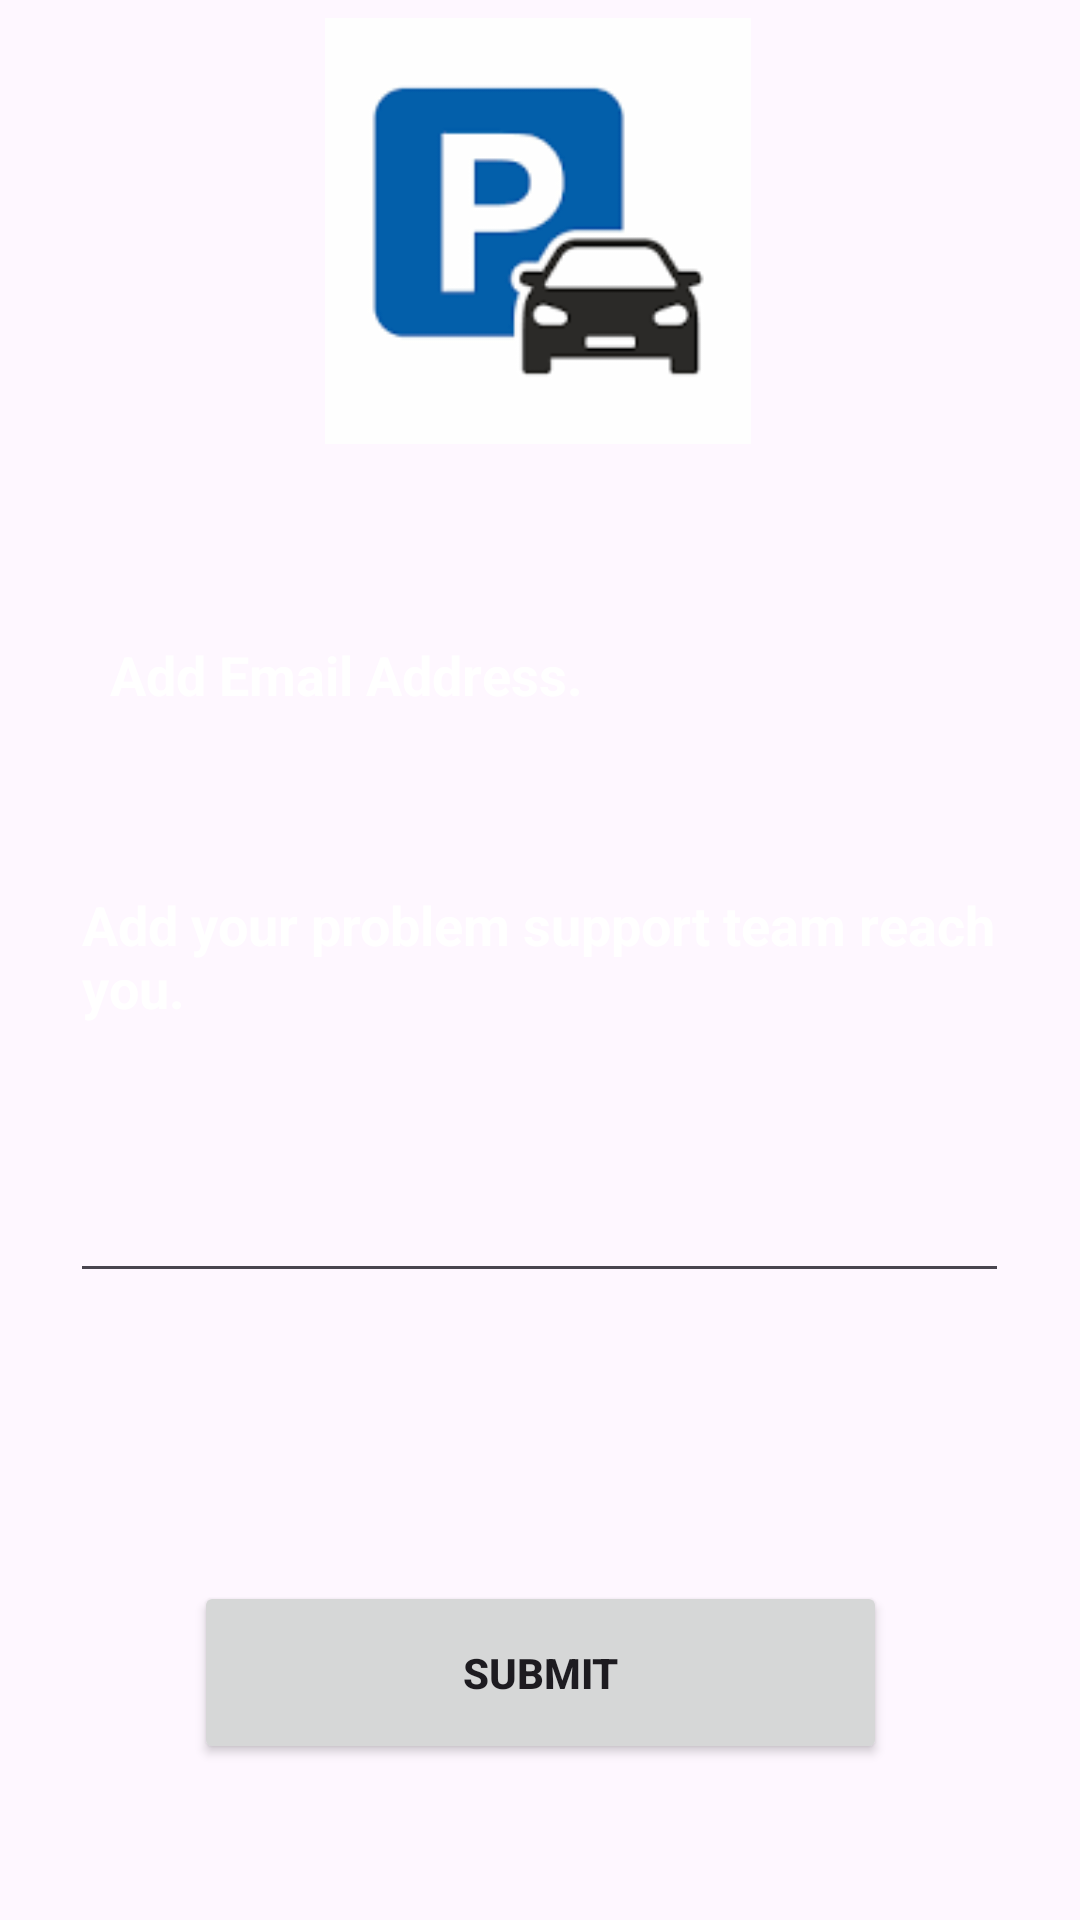

Named icons in this screenshot (1080*1920) and their bounding boxes, (x1, y1, x2, y2):
vehicle: (372, 87, 704, 375)
